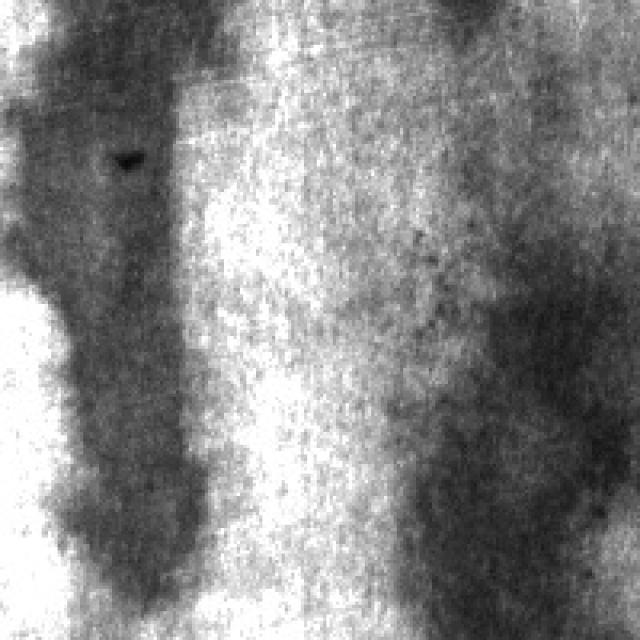patches: (7, 0, 212, 608), (416, 212, 624, 630)
